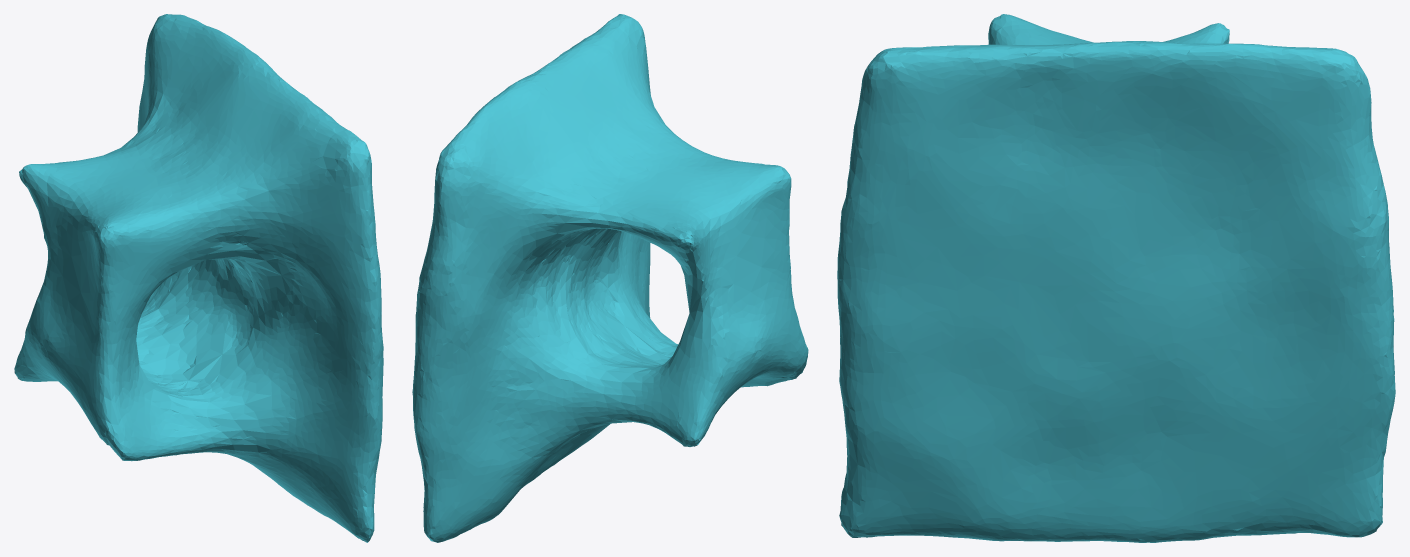
3 views of the same model, side by side, from view 1: azimuth 30°, elevation 25°; view 2: azimuth 150°, elevation 25°; view 3: azimuth 270°, elevation 25° (orthographic). The views are drawn at different scales.
Parts seen in each view (by area): view 1: Renderer Node; view 2: Renderer Node; view 3: Renderer Node.
Part boxes in pixels (box(x1,y1,x2,y2)): Renderer Node: box(14, 14, 383, 542); Renderer Node: box(412, 14, 808, 542); Renderer Node: box(837, 14, 1395, 542).
Bounding box in the file's own units: 0.3958 × 0.6277 × 0.6327.
1 material, 1 textured.
